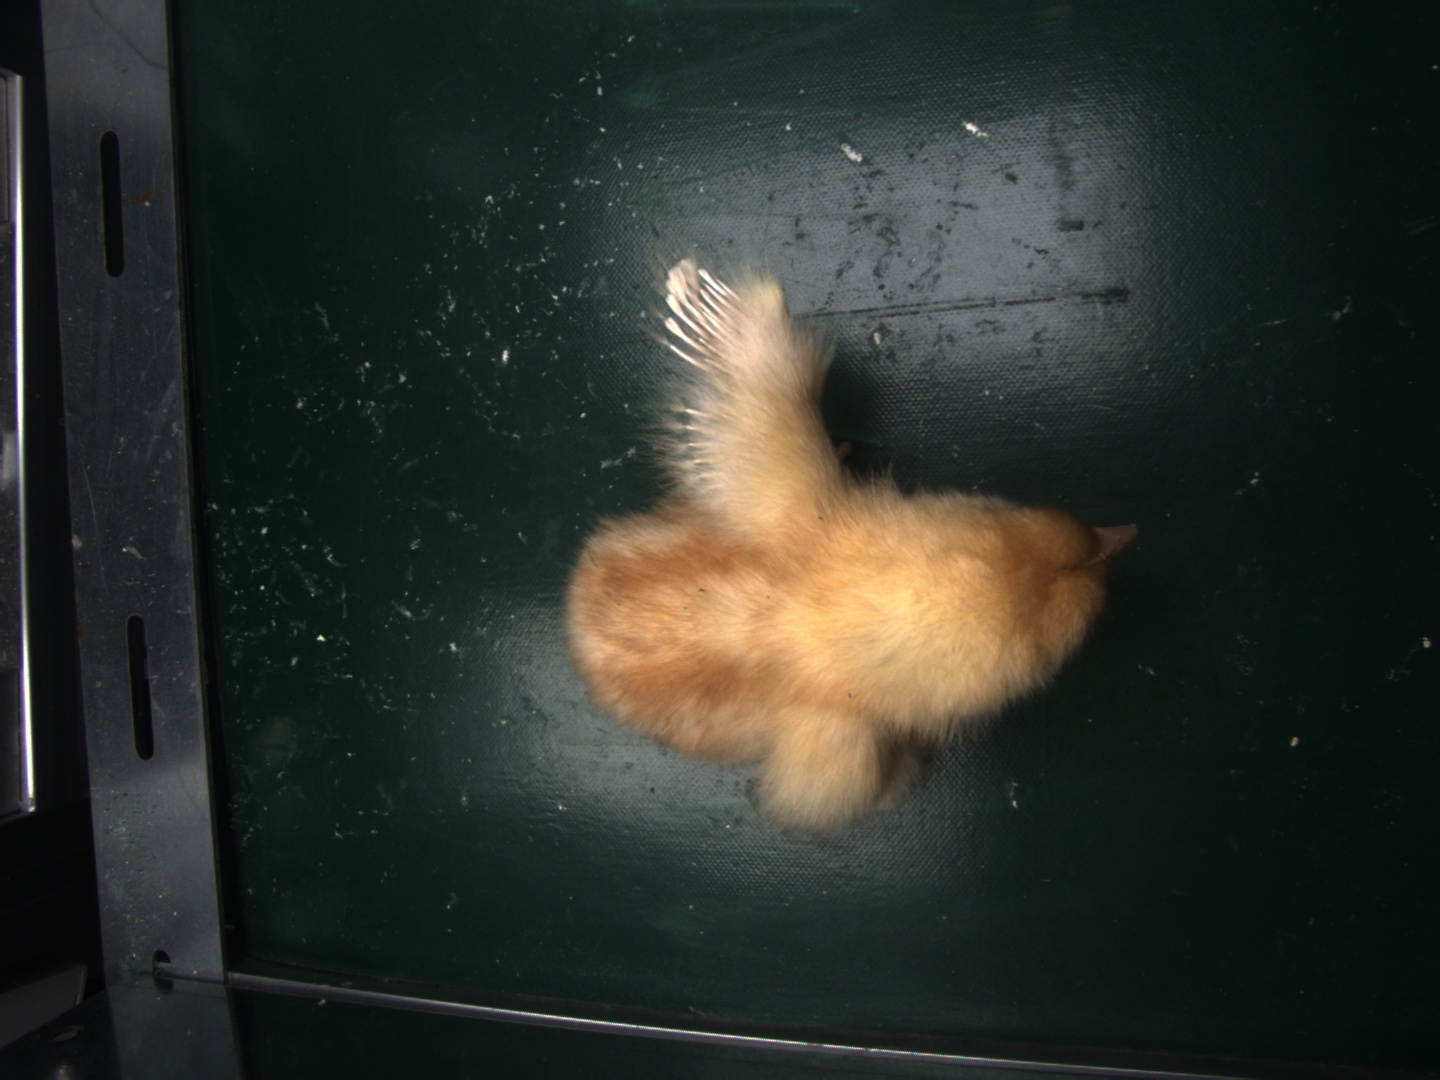female: (659, 258, 742, 366)
